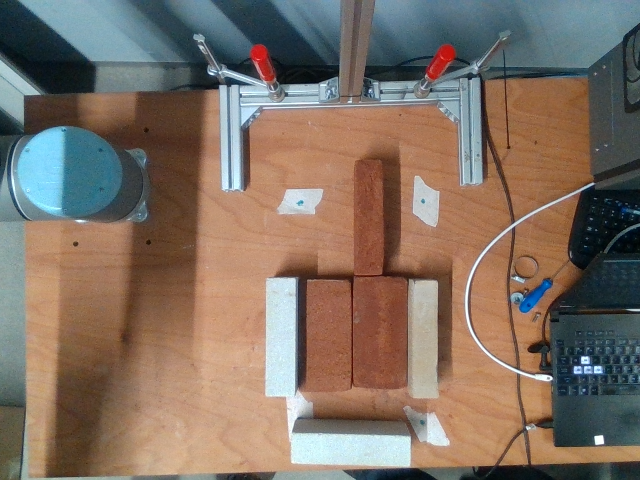brick: (299, 281, 351, 389), (356, 280, 406, 387)
brick-side: (293, 434, 409, 465), (266, 278, 294, 396), (356, 159, 382, 274), (416, 281, 438, 396)
